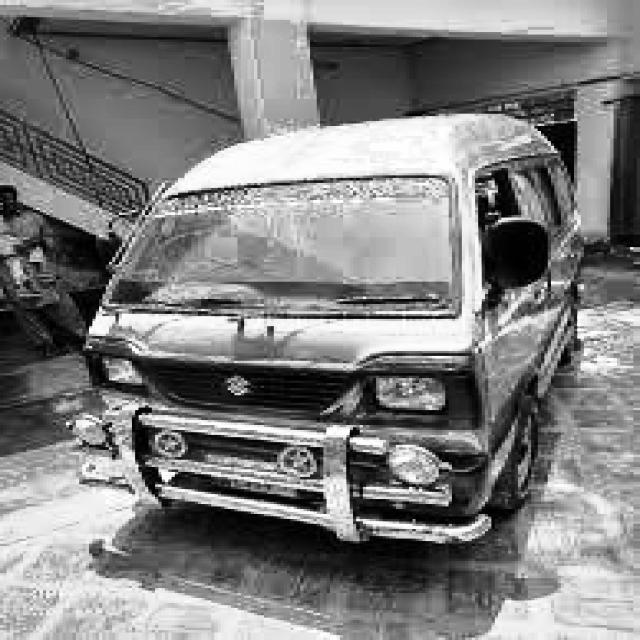LCV: (82, 109, 600, 544)
